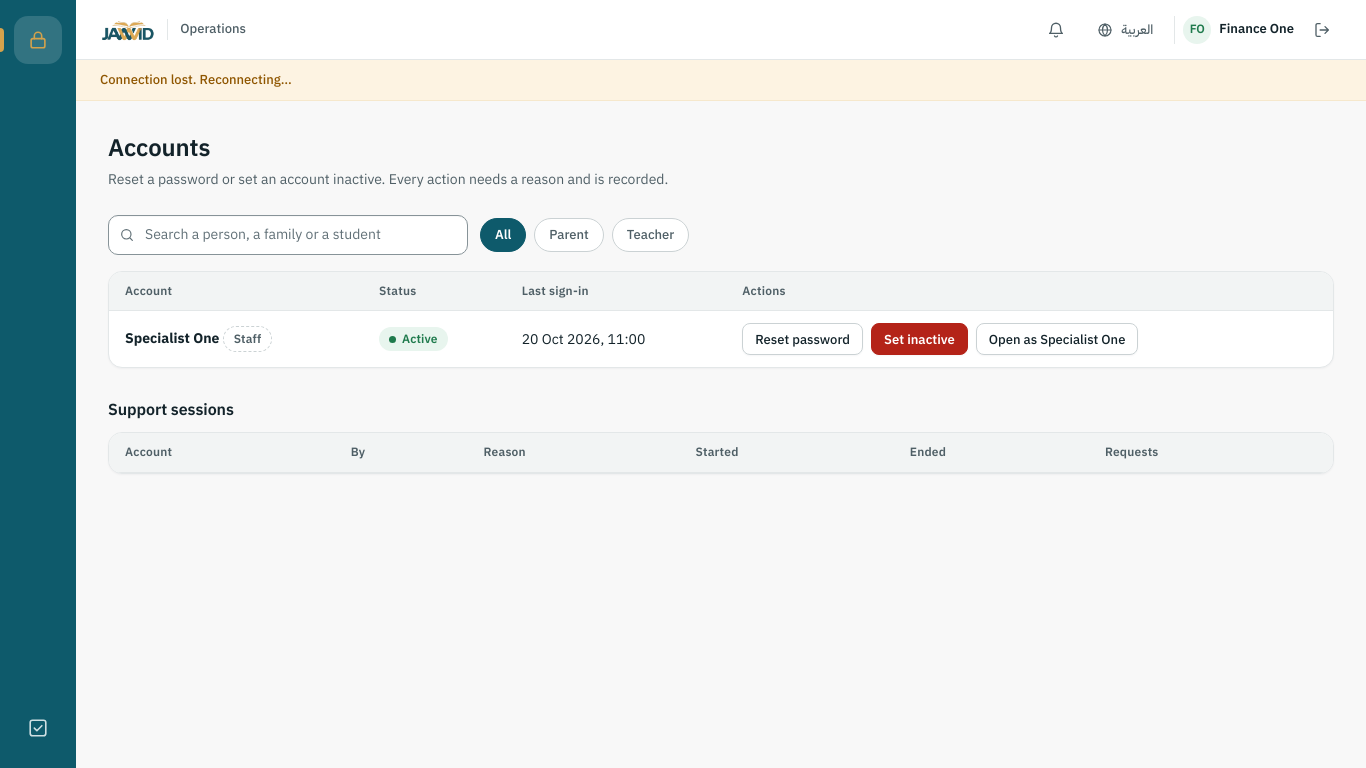
PD-21: the Accounts page › PD-40: a reset answered with no code says it was e-mailed, and shows no code box
Click the button "Reset password".
click(803, 339)  # box top-left (742, 323), bottom-right (863, 355)
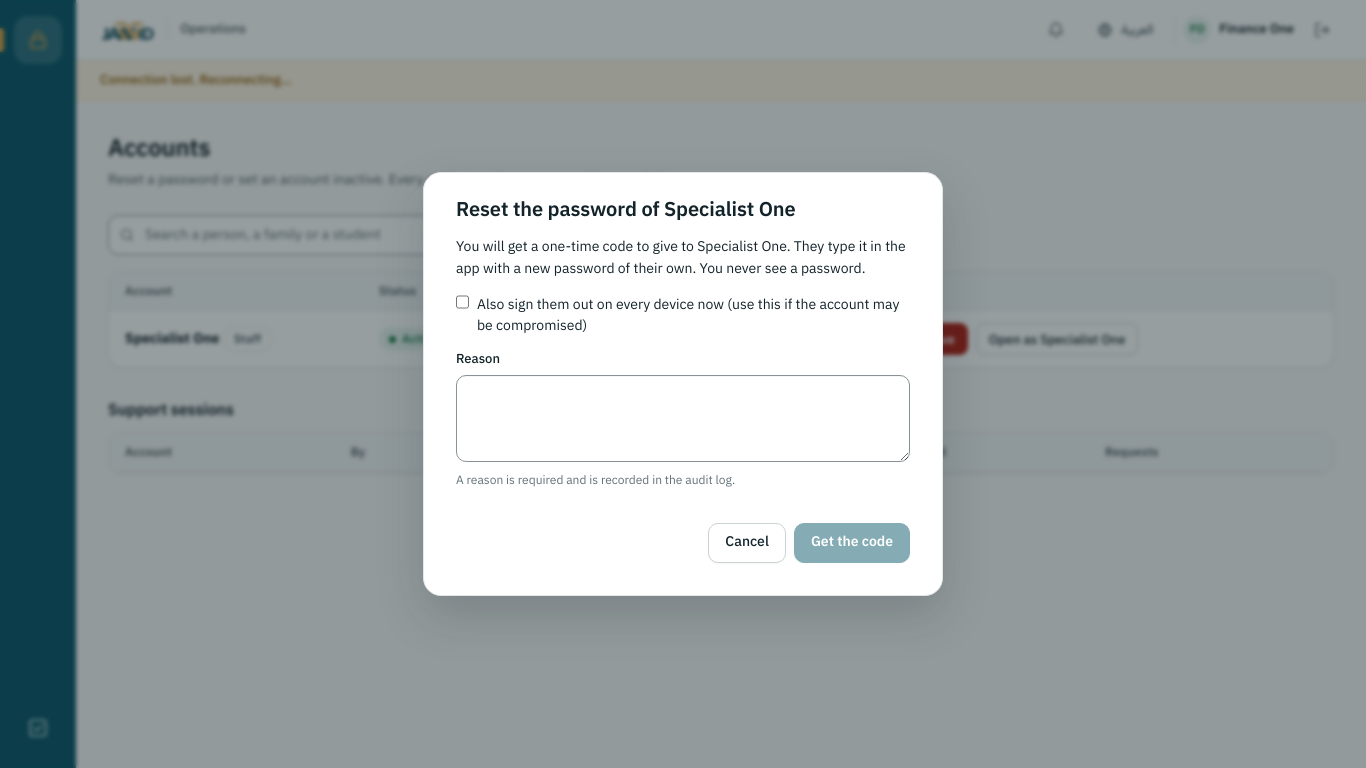
Type "forgot it" into the text box.
click(683, 419); type("forgot it")  # box top-left (456, 375), bottom-right (910, 462)
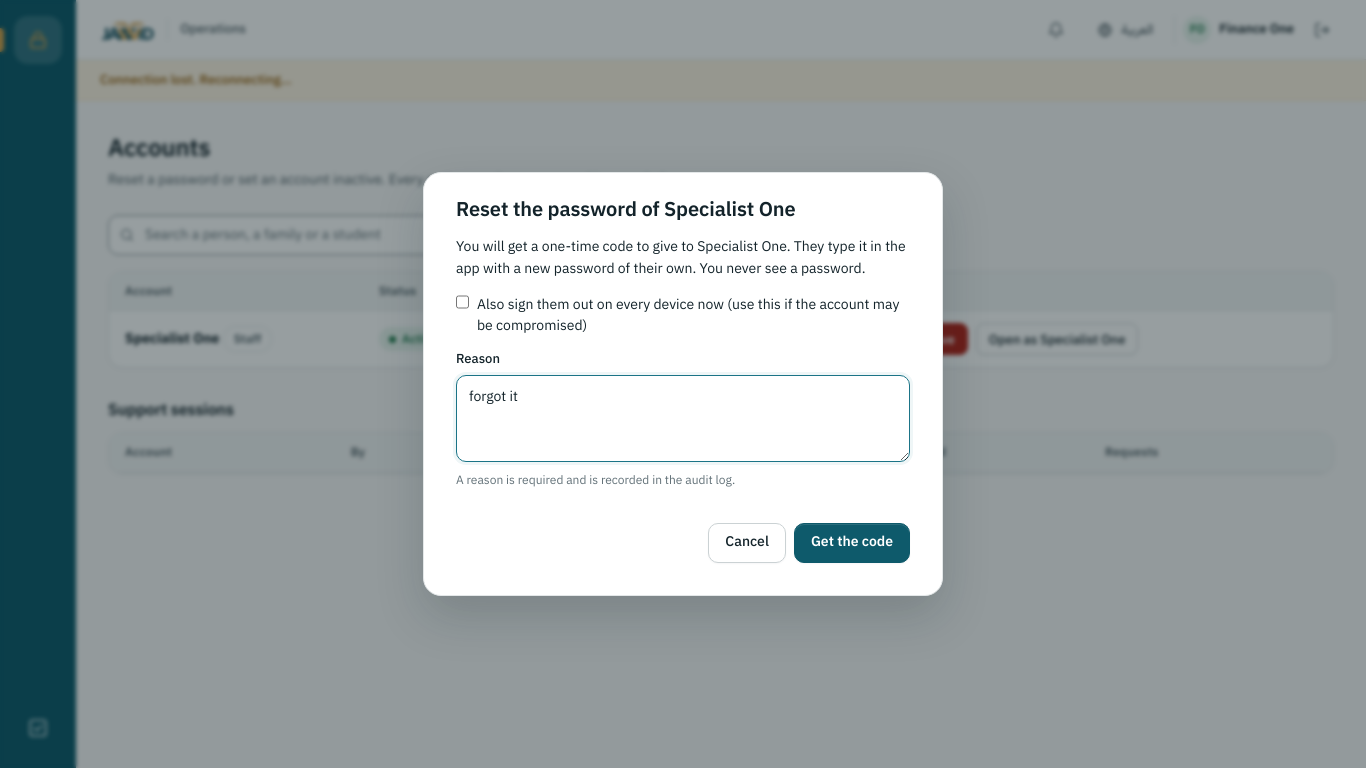
Click the button "Get the code".
click(852, 543)  # box top-left (794, 523), bottom-right (910, 563)
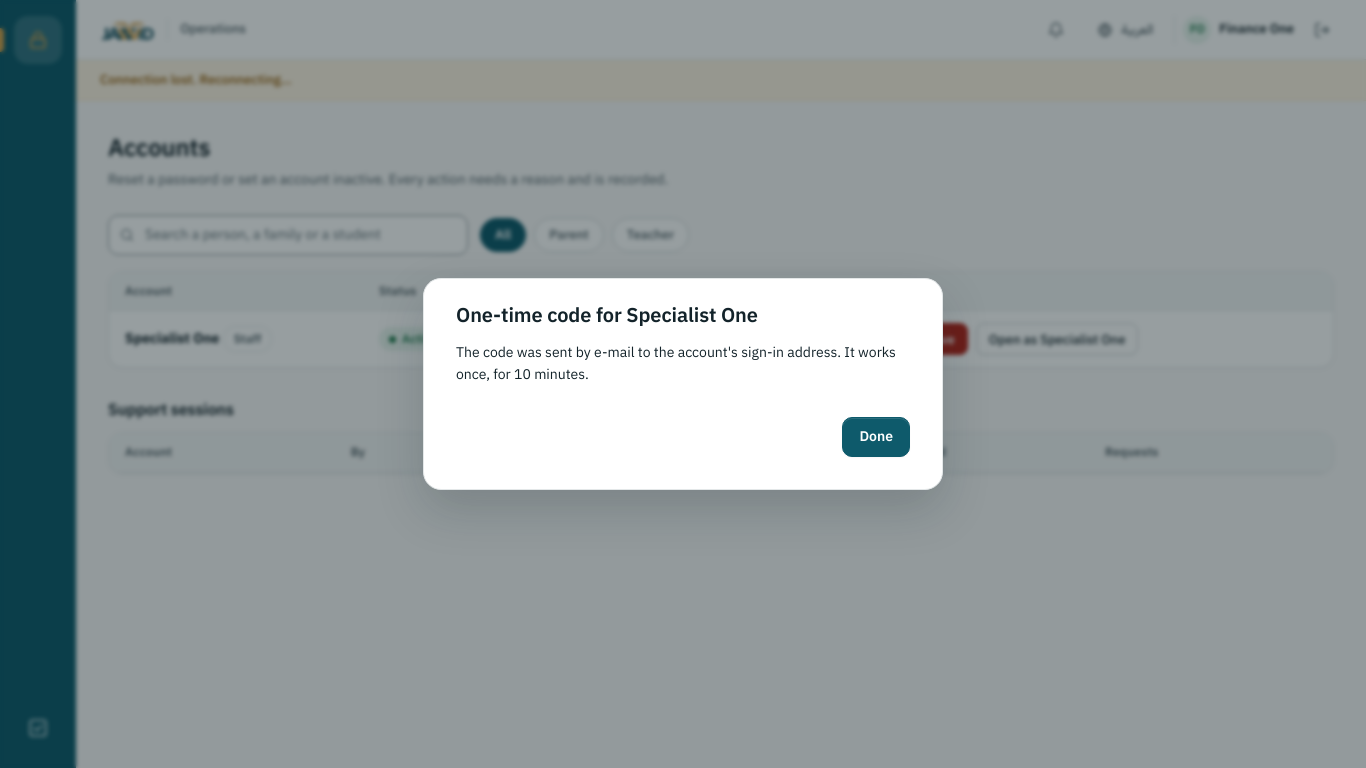
Result: the text "sent by e-mail to the account's sign-in address" is shown at top-left (456, 342), bottom-right (896, 384)
